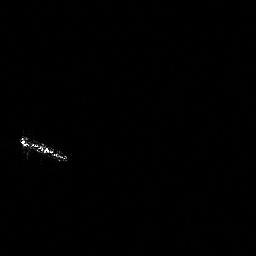ship: (17, 132, 71, 166)
